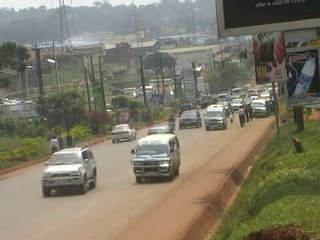Car: (37, 144, 98, 200), (109, 122, 138, 144), (177, 107, 203, 131), (142, 124, 174, 140), (175, 102, 194, 117), (230, 95, 245, 111), (214, 99, 230, 113)
Motorcycle: (168, 112, 177, 135), (227, 107, 236, 125)
